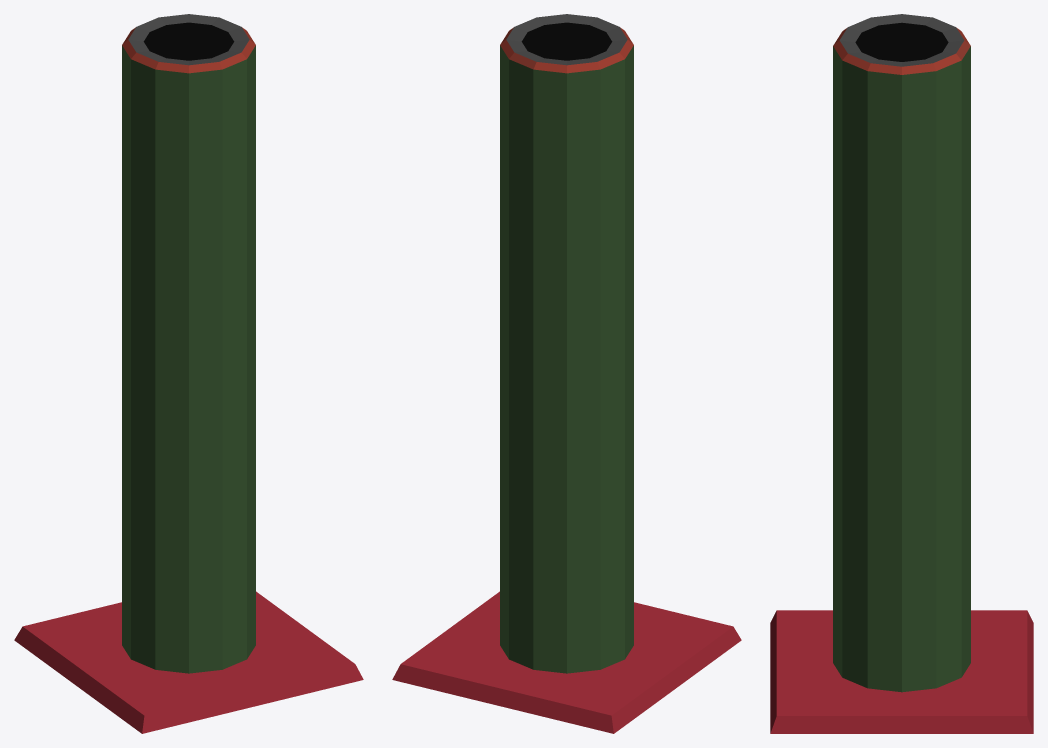
File: GRE_MTube.fbx
3 views of the same model, side by side, from view 1: azimuth 30°, elevation 25°; view 2: azimuth 150°, elevation 25°; view 3: azimuth 270°, elevation 25° (orthographic). The views are drawn at different scales.
Parts seen in each view (by area): view 1: PreloadedTube_DummyPreloadedTube; view 2: PreloadedTube_DummyPreloadedTube; view 3: PreloadedTube_DummyPreloadedTube.
Boxes of the visible parts, x1=… form: PreloadedTube_DummyPreloadedTube: x1=14, y1=14, x2=363, y2=733; PreloadedTube_DummyPreloadedTube: x1=392, y1=14, x2=741, y2=733; PreloadedTube_DummyPreloadedTube: x1=770, y1=14, x2=1033, y2=733.
Bounding box in the file's own units: 19.1 × 51.07 × 19.1.
